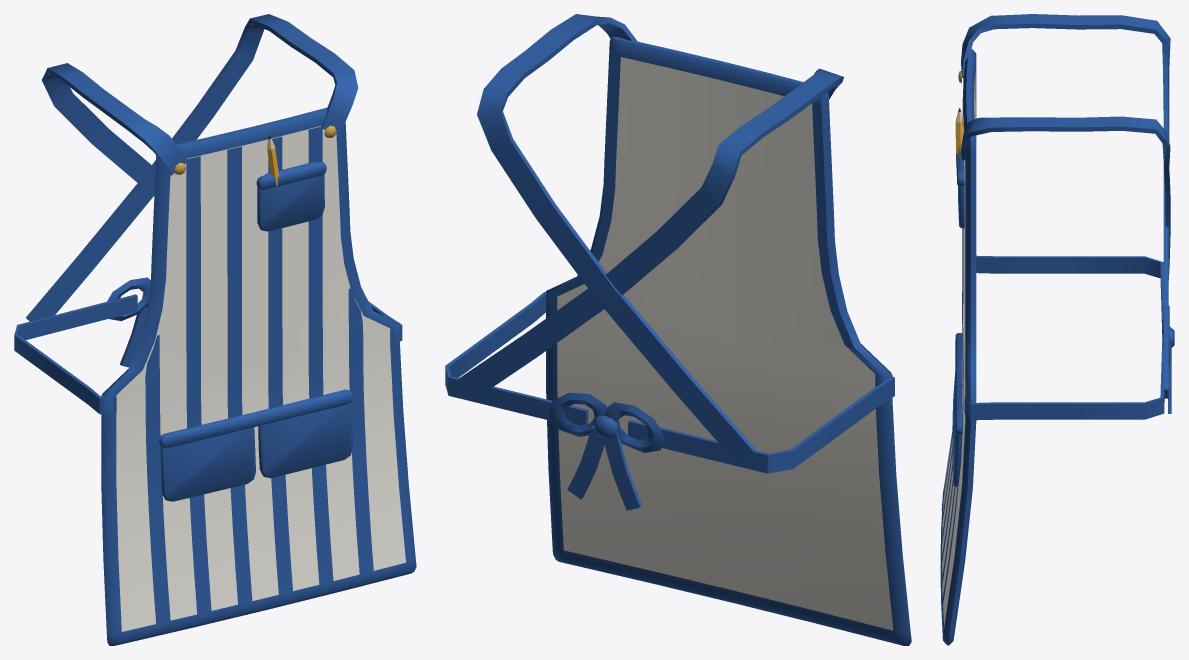
File: Cosmetic_Apron_Stripes.fbx
3 views of the same model, side by side, from view 1: azimuth 30°, elevation 25°; view 2: azimuth 150°, elevation 25°; view 3: azimuth 270°, elevation 25° (orthographic). The views are drawn at different scales.
Visible parts, largest first — view 1: Trim, Apron; view 2: Apron, Trim; view 3: Trim, Apron.
Boxes of the visible parts, x1=… form: Trim: x1=14, y1=14, x2=416, y2=645; Apron: x1=116, y1=125, x2=405, y2=631; Apron: x1=557, y1=57, x2=893, y2=630; Trim: x1=445, y1=14, x2=911, y2=645; Trim: x1=940, y1=14, x2=1174, y2=645; Apron: x1=942, y1=71, x2=975, y2=627.
Bounding box in the file's own units: 205 × 315 × 134.
